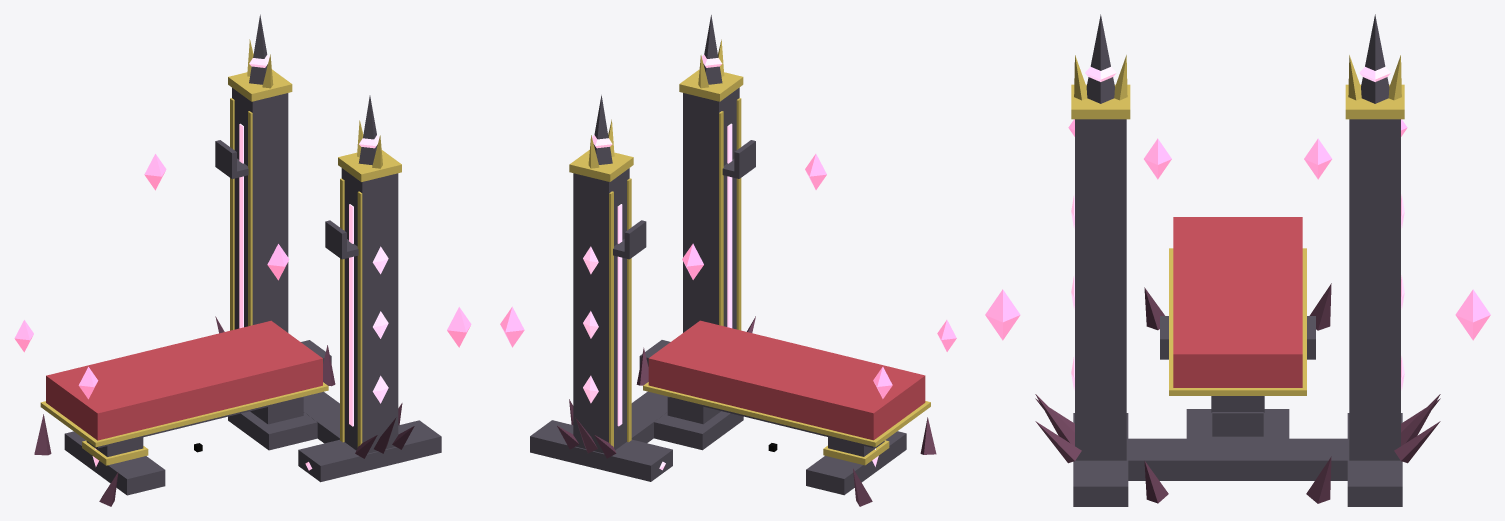
The model's file is VoidEmperor_Bench.fbx.
The picture shows the model from 3 angles, left to right: view 1: azimuth 30°, elevation 25°; view 2: azimuth 150°, elevation 25°; view 3: azimuth 270°, elevation 25°; orthographic projection. The views are drawn at different scales.
Parts seen in each view (by area): view 1: VoidEmperor_Frame, VoidEmperor_Pad, VoidEmperor_Trim, VoidEmperor_Glow, VoidEmperor_Crystals, VoidEmperor_Float1; view 2: VoidEmperor_Frame, VoidEmperor_Pad, VoidEmperor_Trim, VoidEmperor_Glow, VoidEmperor_Crystals, VoidEmperor_Float4; view 3: VoidEmperor_Frame, VoidEmperor_Pad, VoidEmperor_Trim, VoidEmperor_Crystals, VoidEmperor_Glow, VoidEmperor_Float1, VoidEmperor_Float4, VoidEmperor_Float2, VoidEmperor_Float5.
Part boxes in pixels (left/top/right/bottom): VoidEmperor_Frame: left=64, top=14, right=441, bottom=495; VoidEmperor_Pad: left=46, top=320, right=322, bottom=440; VoidEmperor_Trim: left=40, top=39, right=401, bottom=465; VoidEmperor_Glow: left=92, top=54, right=388, bottom=470; VoidEmperor_Crystals: left=34, top=316, right=414, bottom=506; VoidEmperor_Float1: left=447, top=307, right=471, bottom=347; VoidEmperor_Frame: left=530, top=15, right=906, bottom=495; VoidEmperor_Pad: left=648, top=320, right=925, bottom=440; VoidEmperor_Trim: left=569, top=39, right=930, bottom=465; VoidEmperor_Glow: left=583, top=54, right=878, bottom=470; VoidEmperor_Crystals: left=557, top=316, right=936, bottom=506; VoidEmperor_Float4: left=500, top=306, right=524, bottom=347; VoidEmperor_Frame: left=1073, top=14, right=1402, bottom=506; VoidEmperor_Pad: left=1173, top=217, right=1302, bottom=387; VoidEmperor_Trim: left=1071, top=55, right=1404, bottom=395; VoidEmperor_Crystals: left=1035, top=283, right=1440, bottom=503; VoidEmperor_Glow: left=1071, top=66, right=1404, bottom=390; VoidEmperor_Float1: left=985, top=289, right=1020, bottom=340; VoidEmperor_Float4: left=1455, top=289, right=1490, bottom=340; VoidEmperor_Float2: left=1144, top=138, right=1171, bottom=179; VoidEmperor_Float5: left=1304, top=138, right=1331, bottom=179.
Bounding box in the file's own units: 6 × 6.38 × 6.36.
